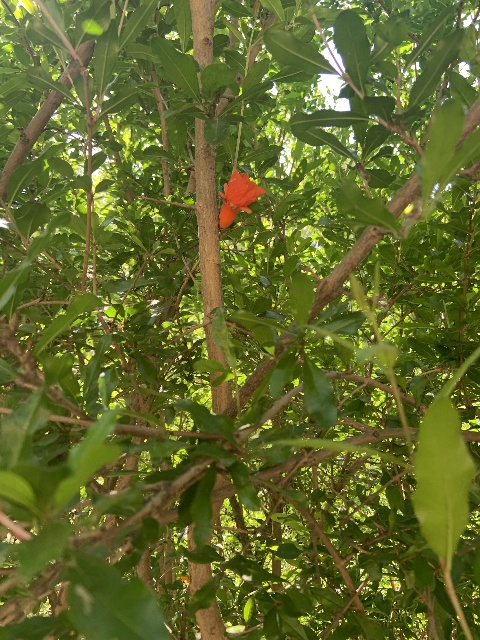flower: (217, 170, 266, 227)
